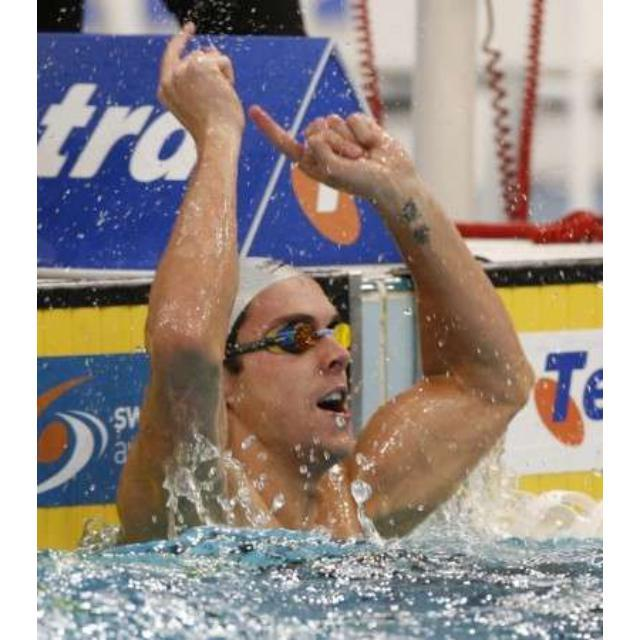human: (119, 22, 534, 556)
